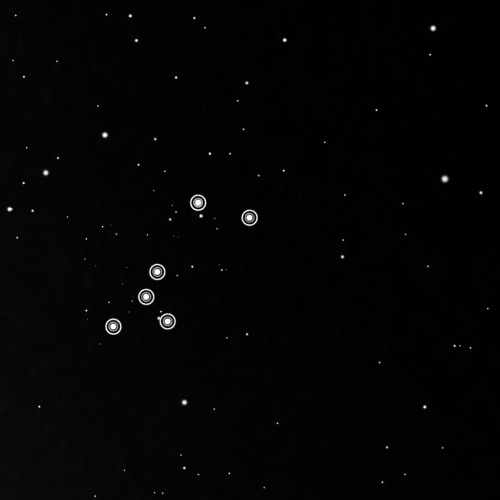canis_major: (99, 187, 265, 342)
